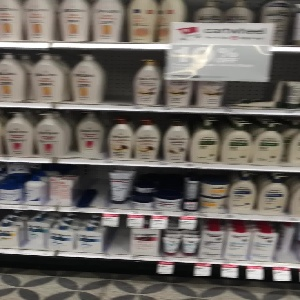void: (101, 50, 136, 103), (225, 76, 279, 108), (74, 163, 106, 208), (103, 215, 130, 256)
